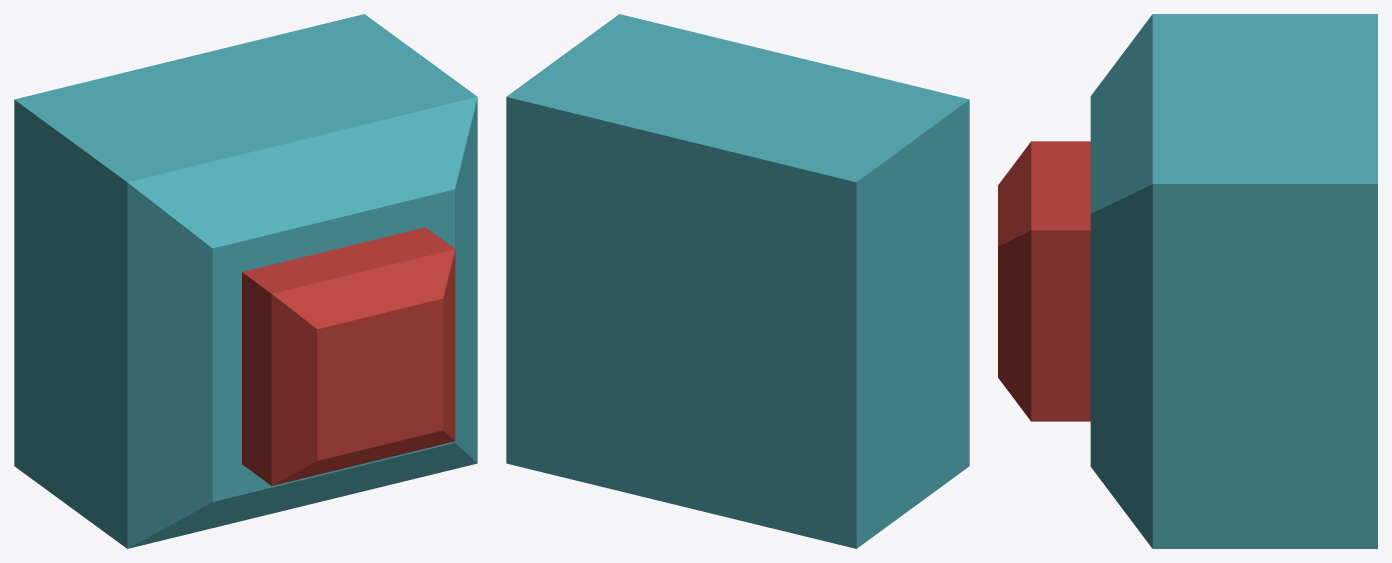
The model's file is the bridge button.fbx.
The picture shows the model from 3 angles, left to right: view 1: azimuth 30°, elevation 25°; view 2: azimuth 150°, elevation 25°; view 3: azimuth 270°, elevation 25°; orthographic projection.
Visible parts, largest first — view 1: Cube; view 2: Cube; view 3: Cube.
Boxes of the visible parts, x1=… form: Cube: x1=14, y1=14, x2=477, y2=548; Cube: x1=506, y1=14, x2=969, y2=548; Cube: x1=998, y1=14, x2=1377, y2=548.
Bounding box in the file's own units: 0.3082 × 0.3082 × 0.2908.
